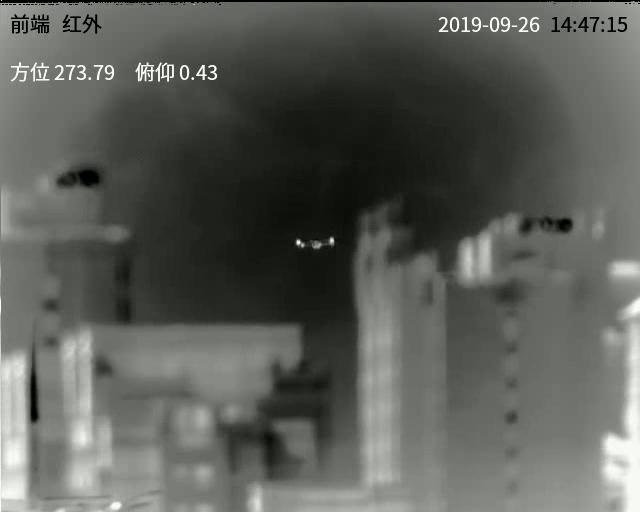DRONE: (293, 235, 336, 251)
